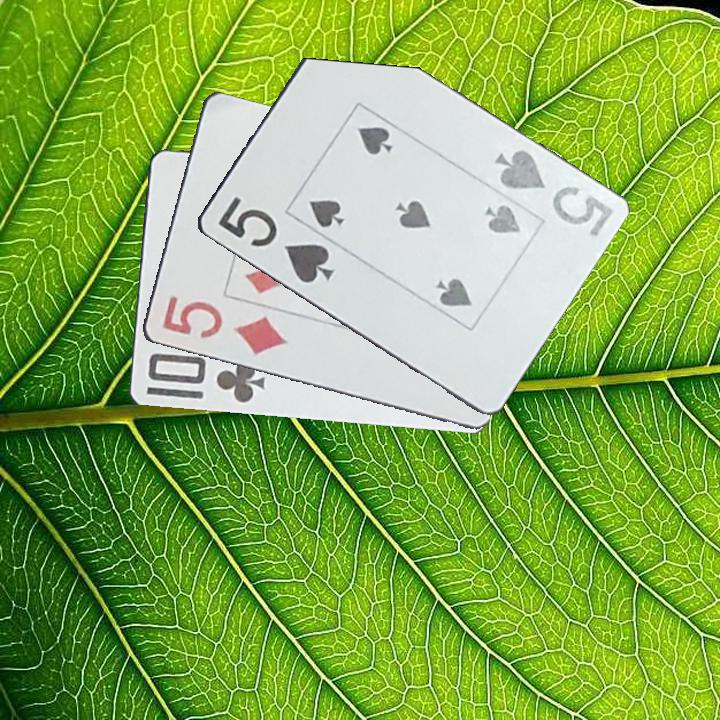5d: (158, 292, 289, 358)
5s: (489, 146, 616, 239), (213, 192, 336, 287)
Tc: (143, 349, 268, 406)
